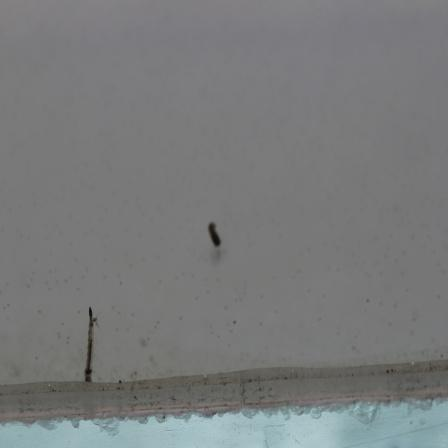Jentik-Nyamuk: (82, 304, 102, 387), (203, 218, 226, 251)
